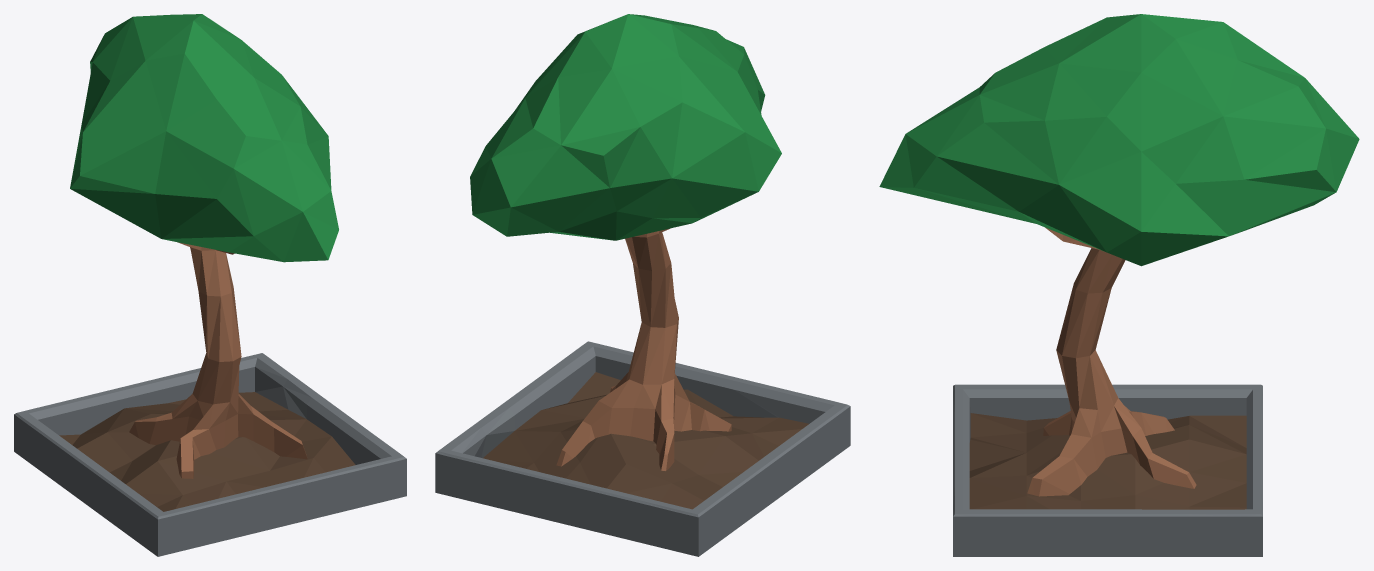
The model's file is tree_lp.fbx.
The picture shows the model from 3 angles, left to right: view 1: azimuth 30°, elevation 25°; view 2: azimuth 150°, elevation 25°; view 3: azimuth 270°, elevation 25°; orthographic projection. The views are drawn at different scales.
Visible parts, largest first — view 1: pasted__pCube3; view 2: pasted__pCube3; view 3: pasted__pCube3.
Boxes of the visible parts, x1,y1,x2,y2 form: pasted__pCube3: [14, 14, 406, 556]; pasted__pCube3: [435, 14, 850, 556]; pasted__pCube3: [879, 14, 1359, 556].
Bounding box in the file's own units: 205 × 340 × 310.
